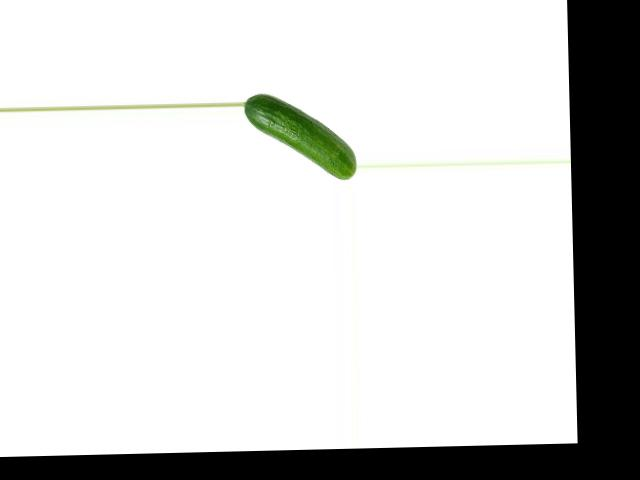cucumber: (242, 91, 357, 181)
